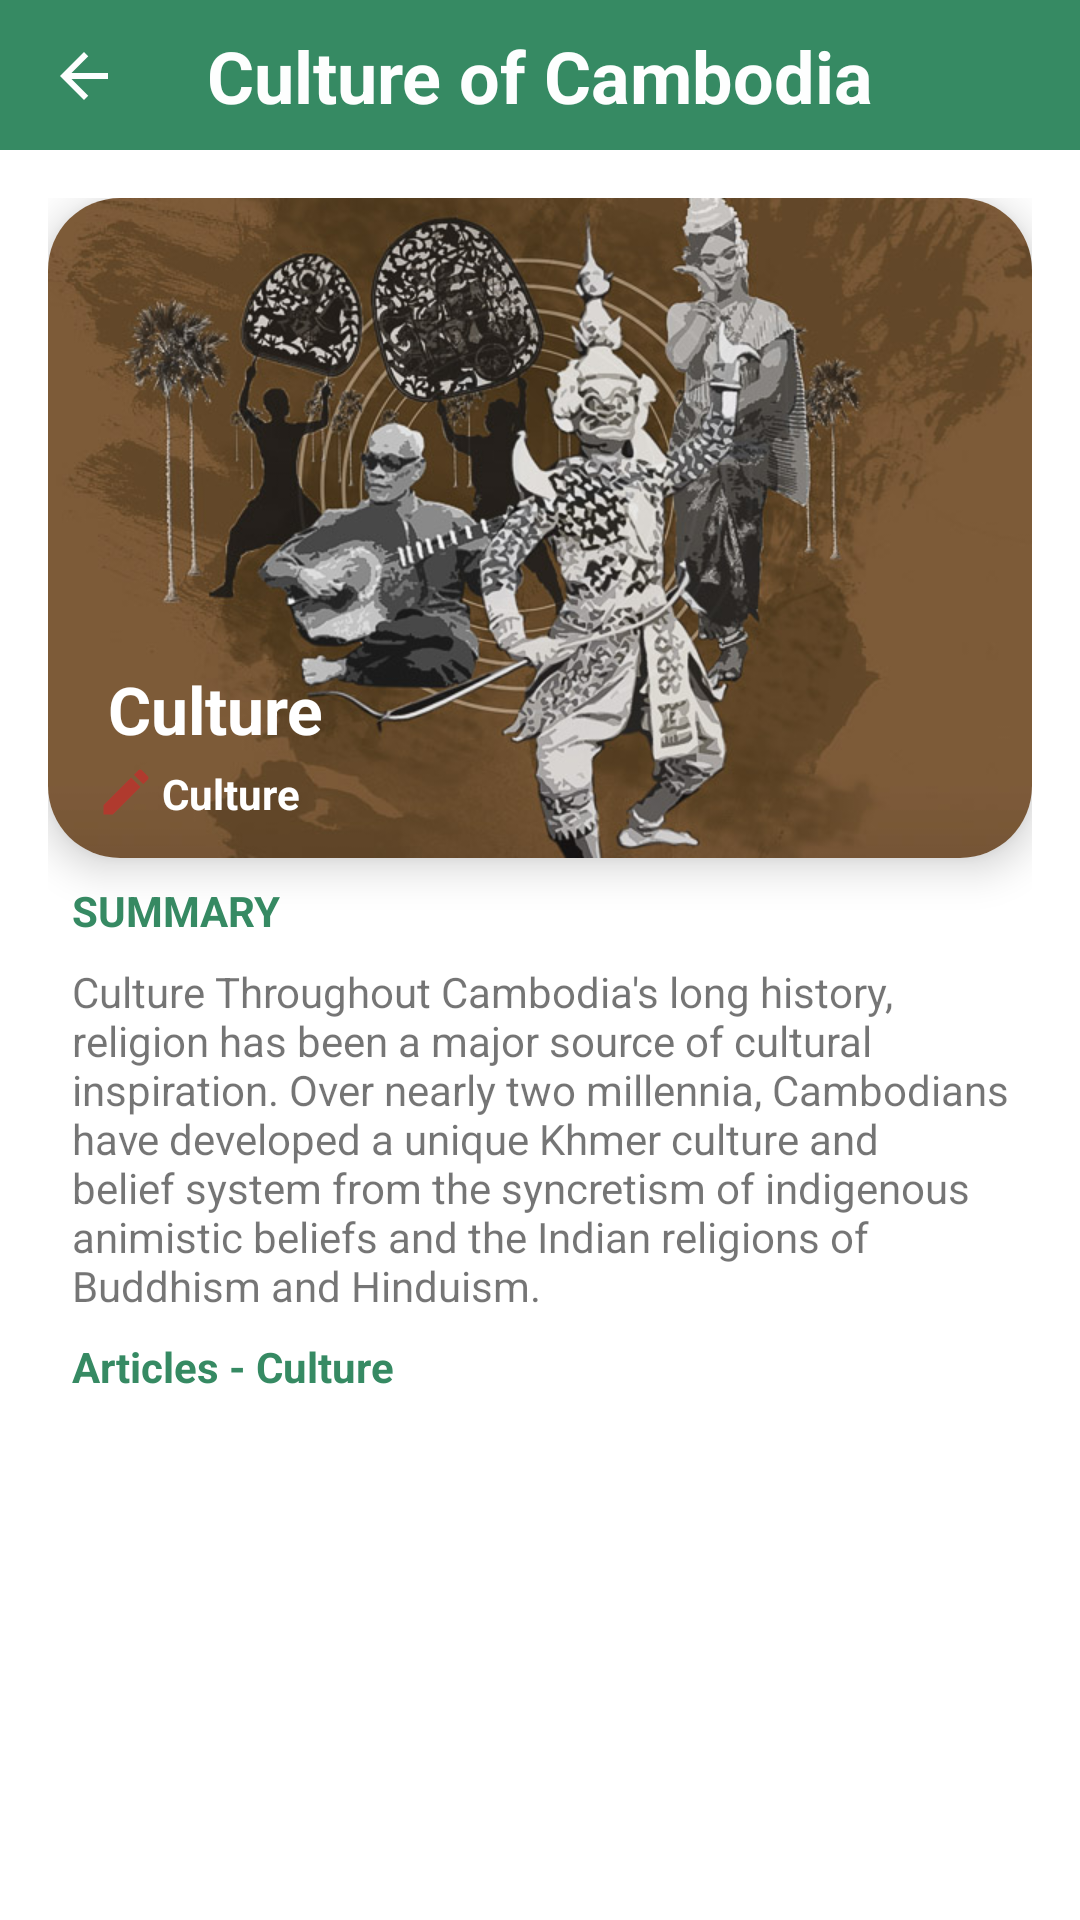

Named icons in this screenshot (1080×1920) and their centers, (x,y):
back: (84,76)
create: (125,792)
